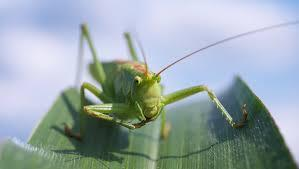insect: (60, 16, 299, 145)
